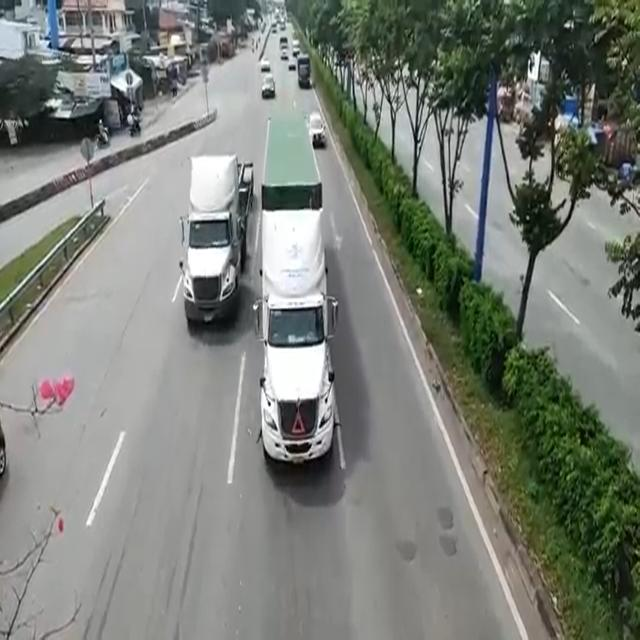car: (309, 109, 324, 140), (261, 78, 275, 103)
truck: (265, 125, 312, 477), (190, 151, 247, 327)
